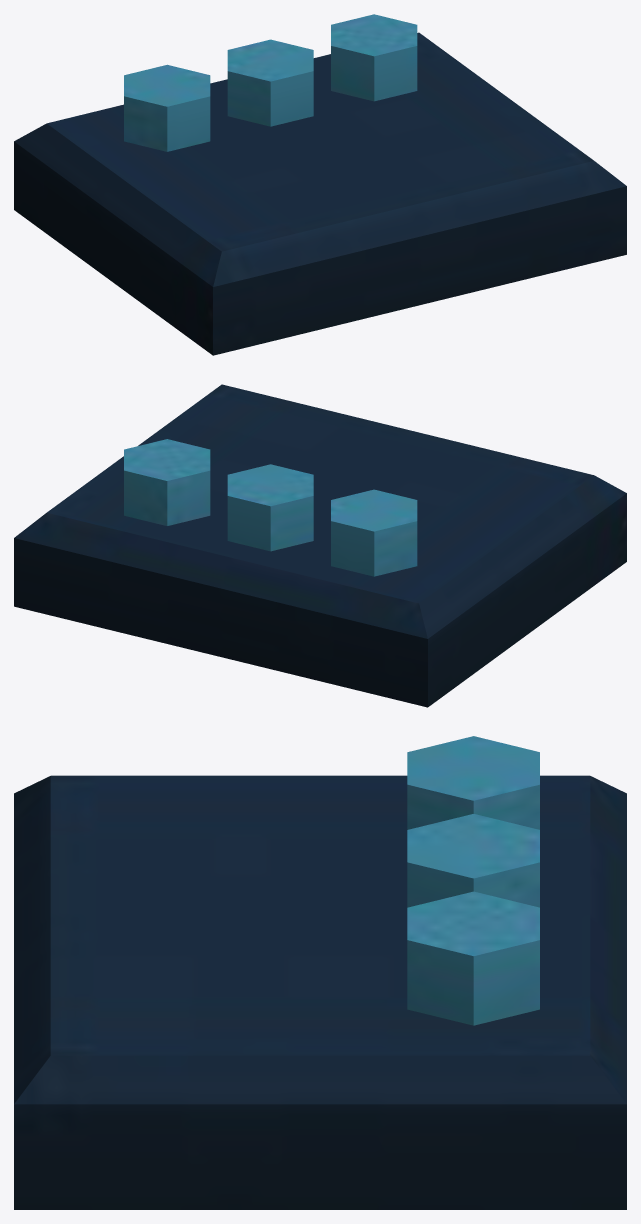
The model's file is speed-module.glb.
3 renders of one model, top to bottom at view 1: azimuth 30°, elevation 25°; view 2: azimuth 150°, elevation 25°; view 3: azimuth 270°, elevation 25°, orthographic. The views are drawn at different scales.
Parts seen in each view (by area): view 1: speed-module; view 2: speed-module; view 3: speed-module.
Part boxes in pixels (box(x1,y1,x2,y2)): speed-module: box(14, 14, 626, 355); speed-module: box(14, 384, 626, 707); speed-module: box(14, 736, 626, 1209).
Size of the model in its own units: 0.24 by 0.075 by 0.2.
Materials: 1 (1 with a texture image).
